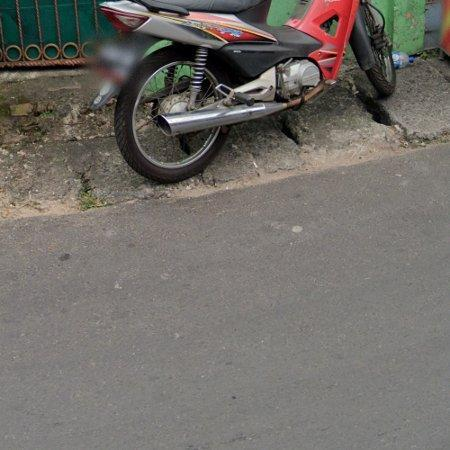motorcycles: (102, 0, 397, 183)
